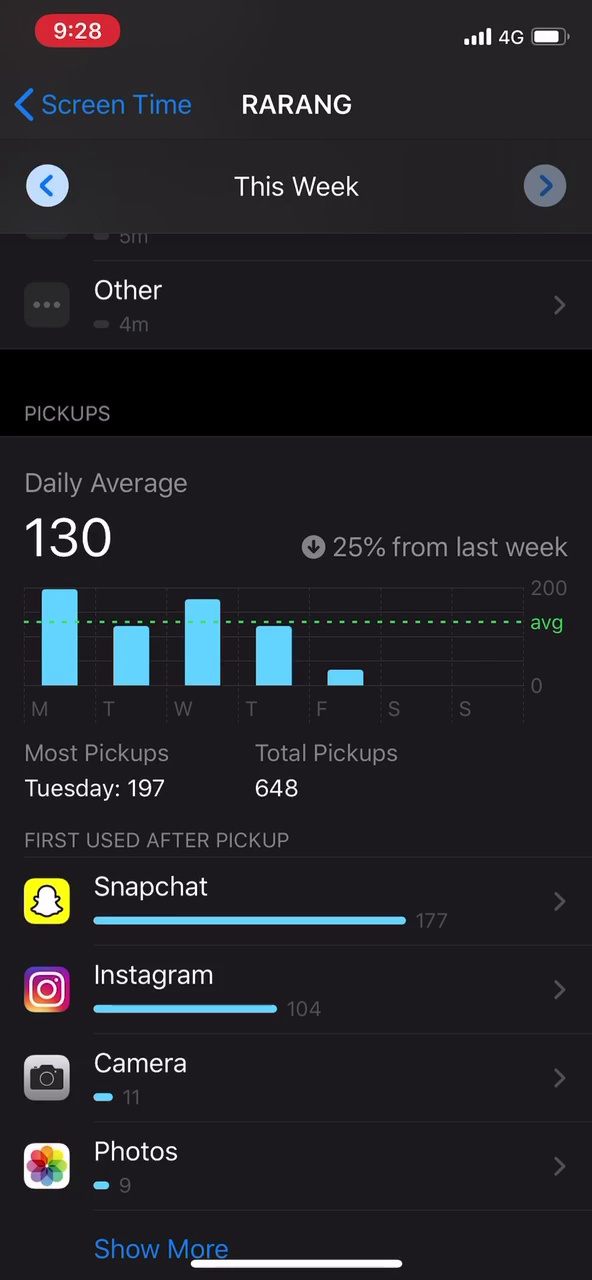pick_app: (20, 867, 457, 944), (17, 958, 325, 1032), (14, 1042, 250, 1116), (17, 1130, 212, 1203)
pick_over: (20, 724, 450, 817)
week: (219, 165, 382, 211)
